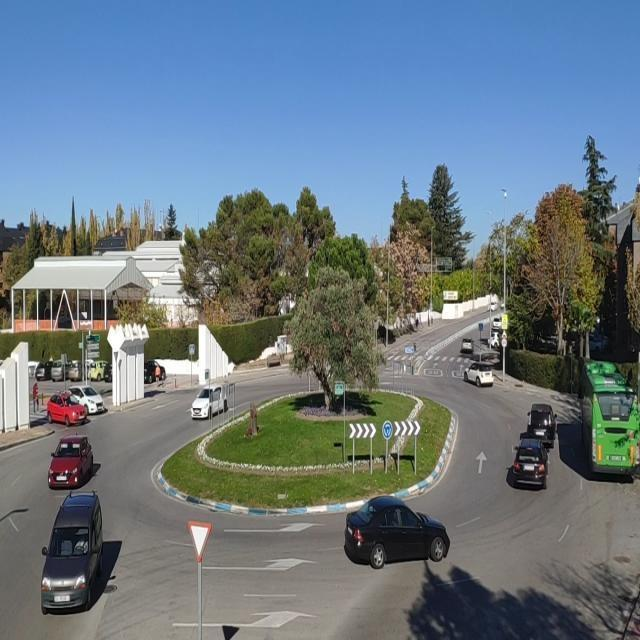Bus: (576, 358, 640, 478)
Car: (343, 495, 451, 570), (48, 435, 94, 488), (508, 438, 550, 489), (47, 391, 88, 426), (525, 404, 556, 447), (190, 385, 228, 420), (67, 385, 105, 415), (465, 362, 494, 387), (68, 359, 94, 381), (144, 361, 168, 384), (86, 361, 110, 382), (52, 359, 73, 382), (589, 332, 609, 353), (35, 360, 53, 381), (461, 338, 474, 354), (103, 360, 112, 381), (491, 332, 502, 348), (492, 316, 502, 330), (490, 301, 498, 311)
Van: (39, 491, 106, 613)
